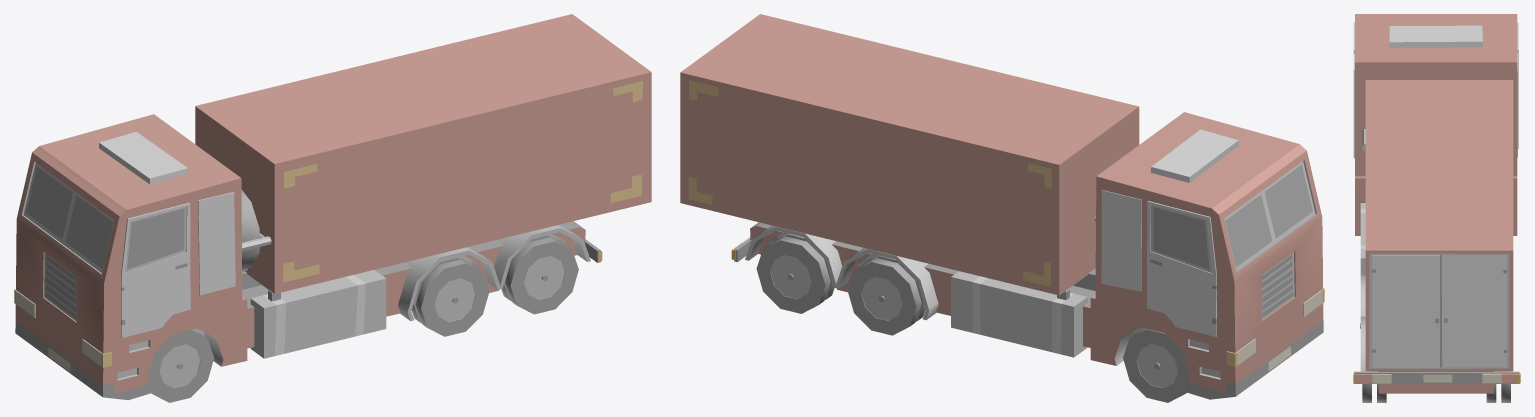
Rendered from kar12.fbx.
3 views of the same model, side by side, from view 1: azimuth 30°, elevation 25°; view 2: azimuth 150°, elevation 25°; view 3: azimuth 270°, elevation 25° (orthographic). The views are drawn at different scales.
Visible parts, largest first — view 1: Boole, Extrude_1, Cylinder_4, Cylinder_3, Cylinder_1; view 2: Boole, Extrude_2, Cylinder_5, Cylinder, Cylinder_2; view 3: Boole, Cube, Cube_1, Cylinder, Cylinder_3.
Part boxes in pixels (x1,y1,x2,y2): Boole: (14,14,651,400); Extrude_1: (121,202,190,337); Cylinder_4: (411,257,489,336); Cylinder_3: (501,235,578,314); Cylinder_1: (147,329,214,402); Boole: (680,14,1324,399); Extrude_2: (1147,201,1216,336); Cylinder_5: (847,255,925,335); Cylinder: (756,233,834,313); Cylinder_2: (1123,328,1190,402); Boole: (1353,14,1520,393); Cube: (1372,255,1439,367); Cube_1: (1440,255,1506,367); Cylinder: (1486,384,1510,402); Cylinder_3: (1362,384,1386,402).
Bounding box in the file's own units: 896 × 333 × 251.
